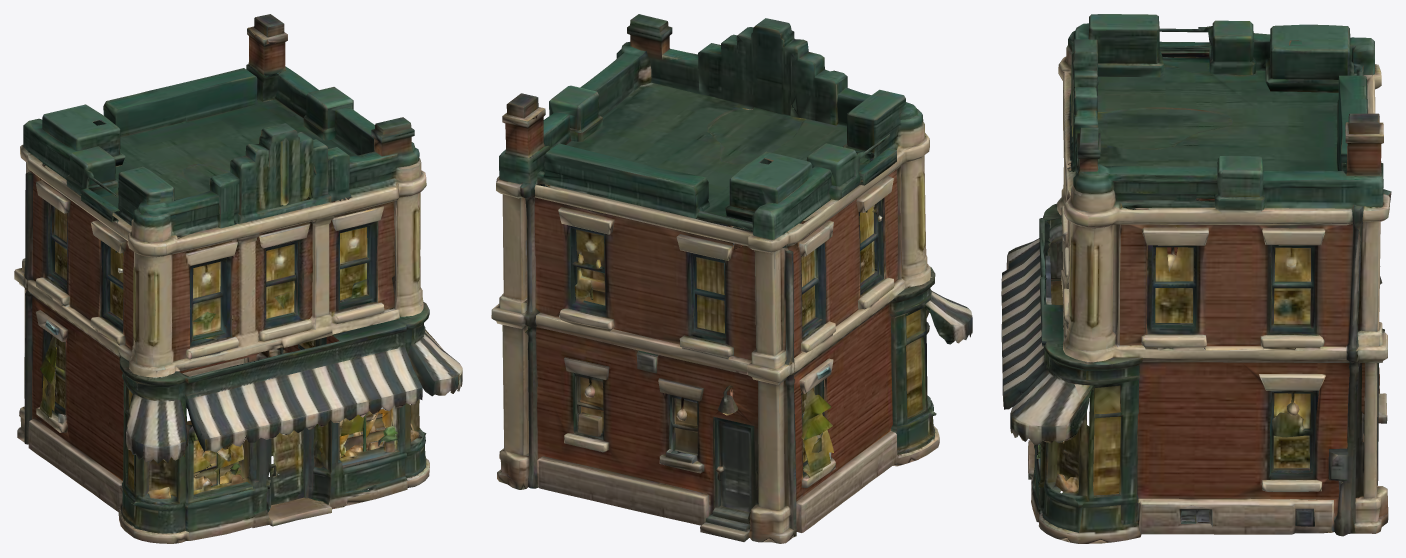
File: candidate.glb
The picture shows the model from 3 angles, left to right: view 1: azimuth 30°, elevation 25°; view 2: azimuth 150°, elevation 25°; view 3: azimuth 270°, elevation 25°; orthographic projection. The views are drawn at different scales.
Parts seen in each view (by area): view 1: expansion__shop_2__native_mobile; view 2: expansion__shop_2__native_mobile; view 3: expansion__shop_2__native_mobile.
Part boxes in pixels (<box>): expansion__shop_2__native_mobile: <box>14,14,462,543</box>; expansion__shop_2__native_mobile: <box>491,14,972,543</box>; expansion__shop_2__native_mobile: <box>1001,14,1391,543</box>.
Size of the model in its own units: 0.9176 by 1 by 0.8427.
1 material, 1 textured.
